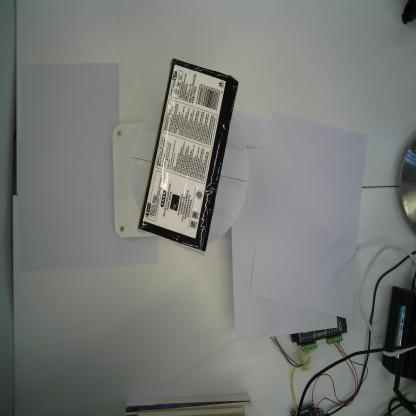Tissue: (136, 56, 240, 256)
